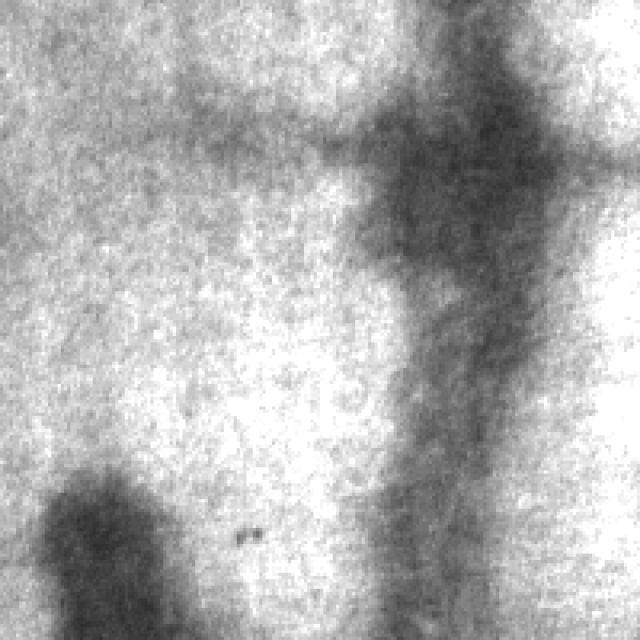patches: (336, 0, 544, 640), (31, 463, 218, 640)
